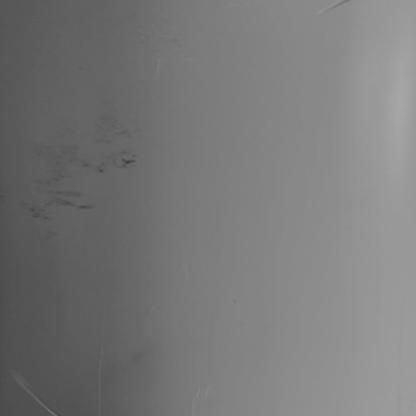sunshang: (13, 374, 67, 416), (318, 1, 348, 13)
